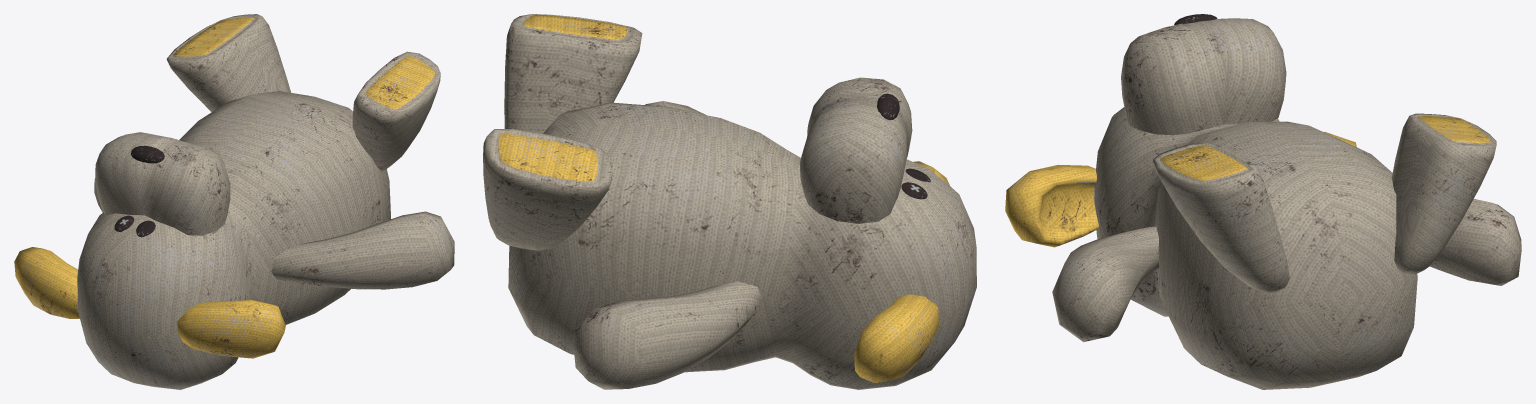
The model's file is Dog (3).fbx.
The picture shows the model from 3 angles, left to right: view 1: azimuth 30°, elevation 25°; view 2: azimuth 150°, elevation 25°; view 3: azimuth 270°, elevation 25°; orthographic projection. The views are drawn at different scales.
Parts seen in each view (by area): view 1: foot; view 2: foot; view 3: foot.
Part boxes in pixels (x1,y1,x2,y2): foot: (14,14,454,389); foot: (483,14,976,389); foot: (1005,14,1521,389).
Size of the model in its own units: 39.62 by 24.83 by 39.89.
